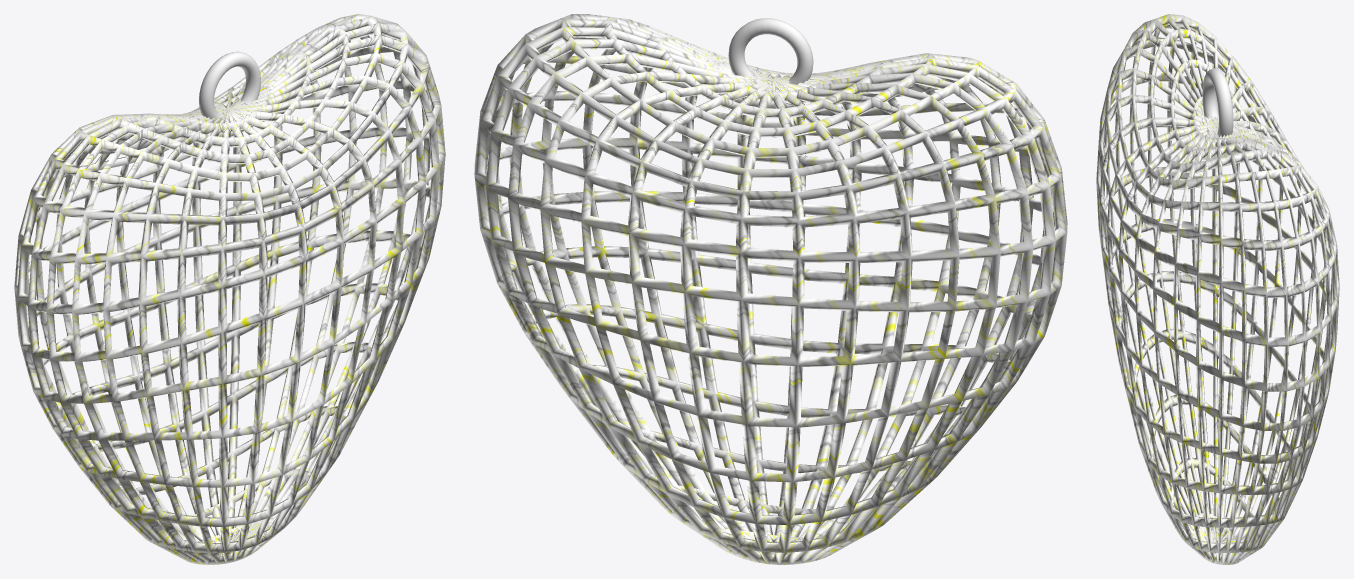
Rendered from heart.glb.
The picture shows the model from 3 angles, left to right: view 1: azimuth 30°, elevation 25°; view 2: azimuth 150°, elevation 25°; view 3: azimuth 270°, elevation 25°; orthographic projection. The views are drawn at different scales.
Visible parts, largest first — view 1: Object_11; view 2: Object_11; view 3: Object_11.
Boxes of the visible parts, x1,y1,x2,y2 form: Object_11: (14, 14, 445, 564); Object_11: (474, 14, 1067, 564); Object_11: (1096, 14, 1339, 564).
Size of the model in its own units: 0.0986 by 0.0994 by 0.0452.
Materials: 2 (1 with a texture image).
